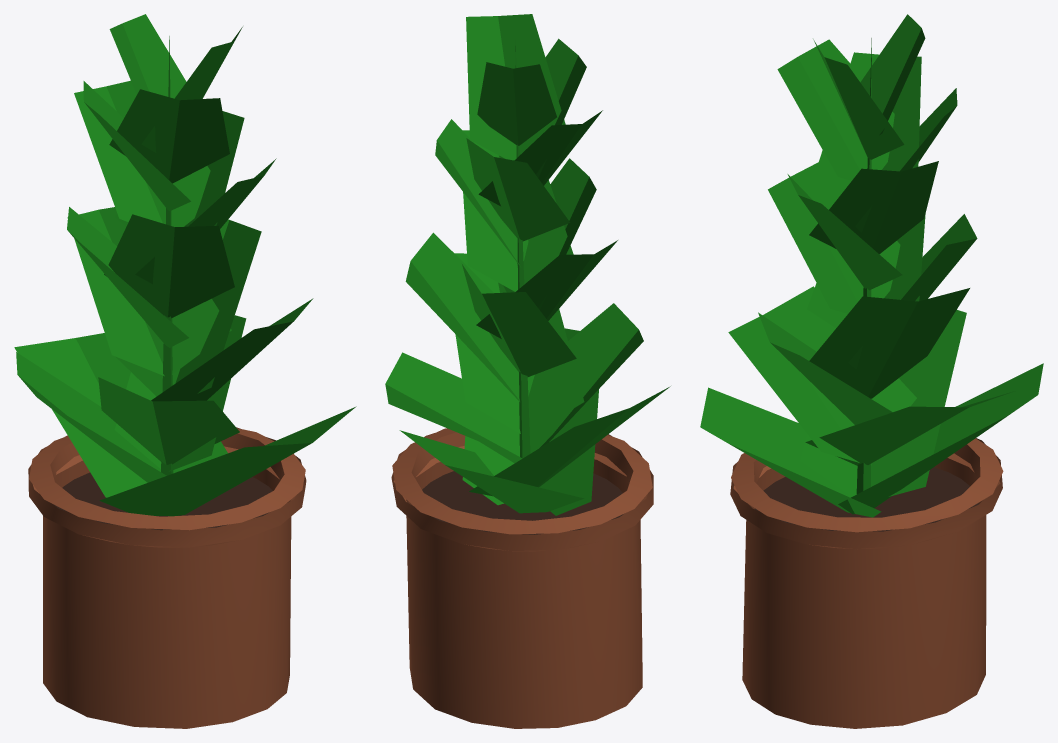
The model's file is tanaman hias 4.fbx.
3 views of the same model, side by side, from view 1: azimuth 30°, elevation 25°; view 2: azimuth 150°, elevation 25°; view 3: azimuth 270°, elevation 25° (orthographic).
Parts seen in each view (by area): view 1: Plane.001, Plane.002; view 2: Plane.001, Plane.002; view 3: Plane.001, Plane.002.
Boxes of the visible parts, x1,y1,x2,y2 form: Plane.001: (14,14,356,516); Plane.002: (28,427,306,728); Plane.001: (385,14,670,515); Plane.002: (391,428,653,728); Plane.001: (700,14,1043,517); Plane.002: (730,438,1003,728).
Size of the model in its own units: 214 by 510 by 243.
